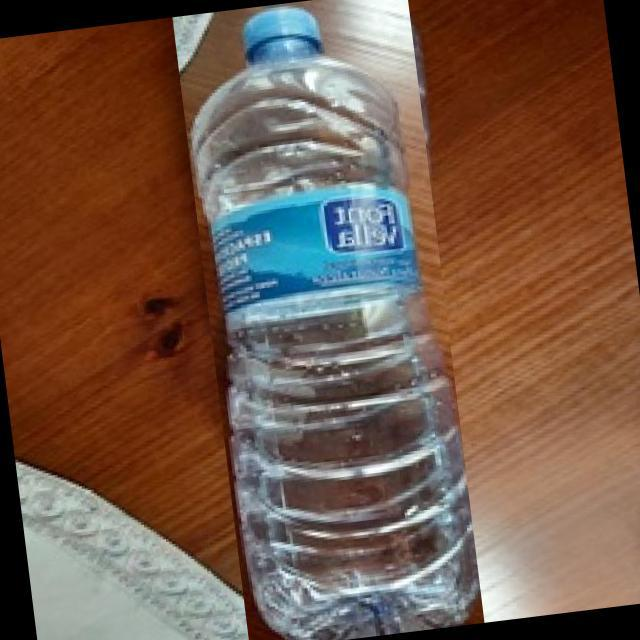good: (173, 0, 485, 640)
